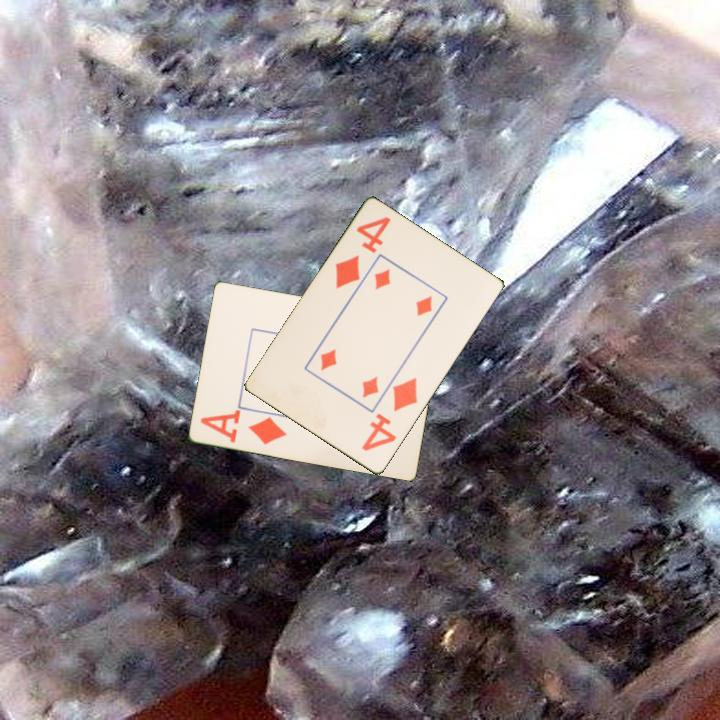4d: (358, 374, 421, 454), (331, 213, 394, 292)
Ad: (197, 407, 290, 447)
